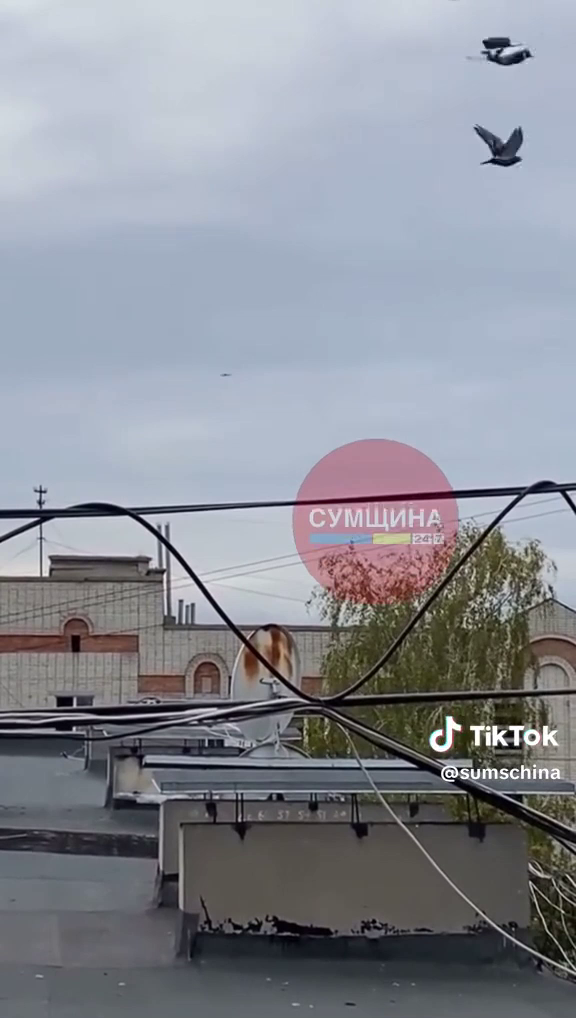not_drone: (460, 27, 546, 76)
